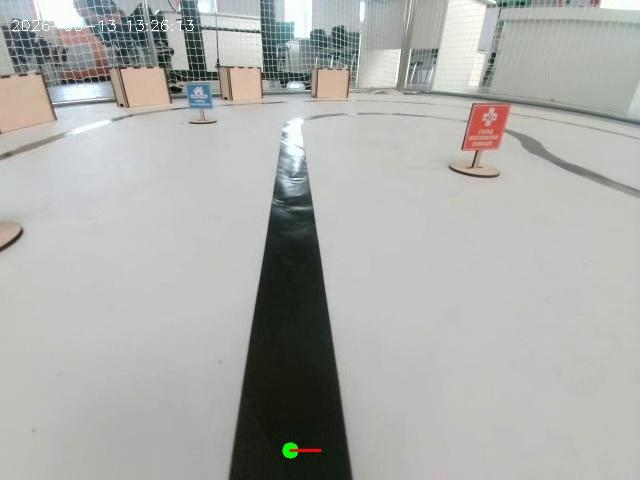flood: (174, 74, 222, 134)
medical: (428, 74, 529, 188)
